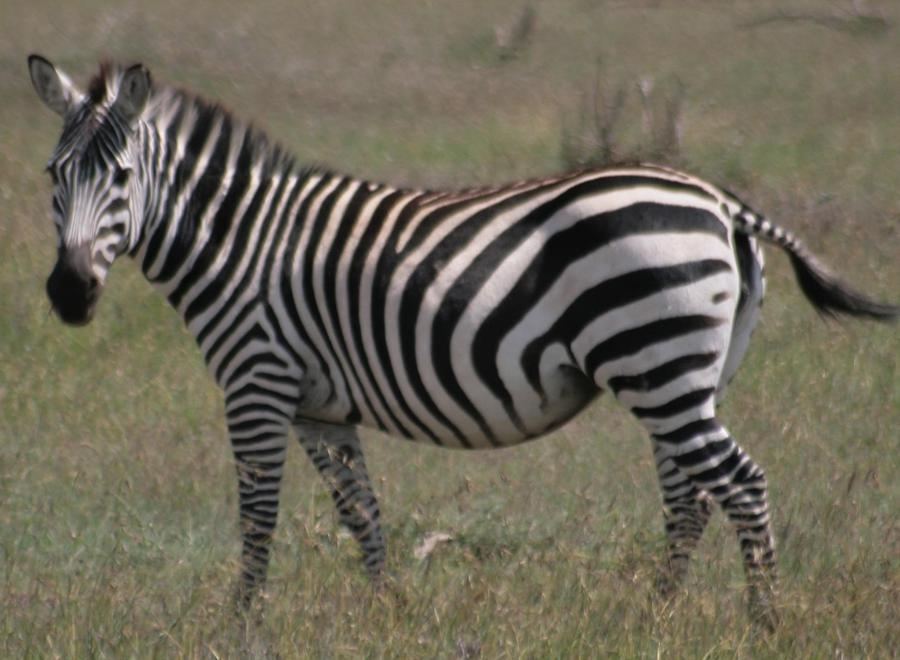zebra_plains: (178, 147, 739, 445)
